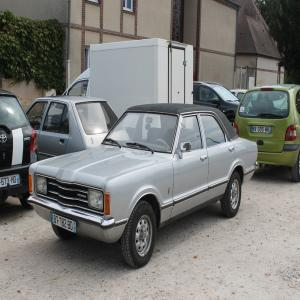Vehicle-registration-plate: (52, 214, 78, 236), (1, 174, 21, 189), (252, 127, 273, 134)
